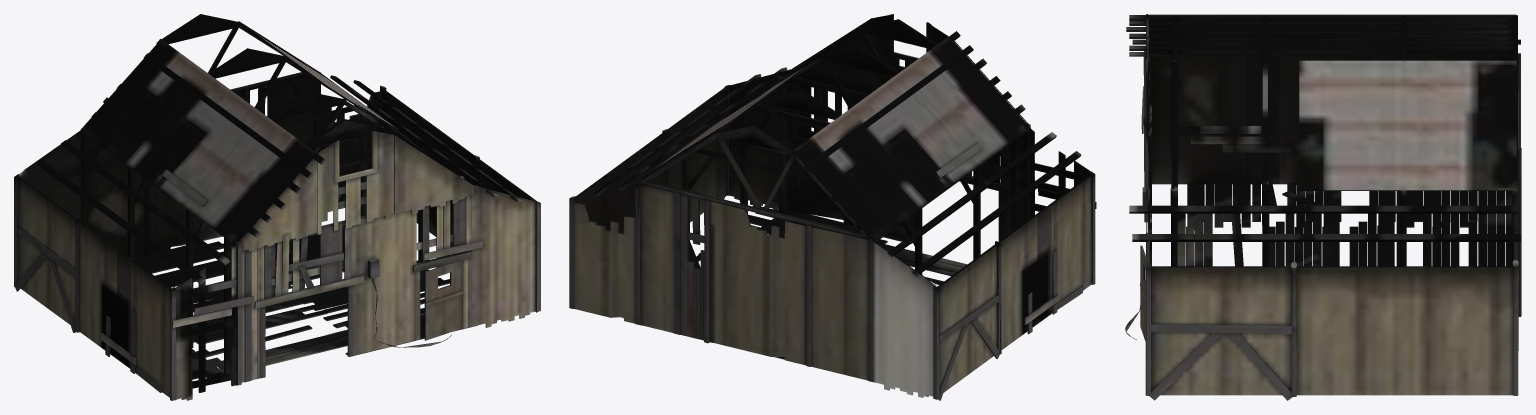
The model's file is old-barn.zfix-v14.lod1.glb.
The picture shows the model from 3 angles, left to right: view 1: azimuth 30°, elevation 25°; view 2: azimuth 150°, elevation 25°; view 3: azimuth 270°, elevation 25°; orthographic projection. The views are drawn at different scales.
Visible parts, largest first — view 1: Object002_Object002_mtl_0; view 2: Object002_Object002_mtl_0; view 3: Object002_Object002_mtl_0.
Part boxes in pixels (x1,y1,x2,y2): Object002_Object002_mtl_0: (14,14,540,400); Object002_Object002_mtl_0: (569,14,1096,400); Object002_Object002_mtl_0: (1125,14,1521,400).
Size of the model in its own units: 14.69 by 8.76 by 11.44.
Materials: 1 (1 with a texture image).
